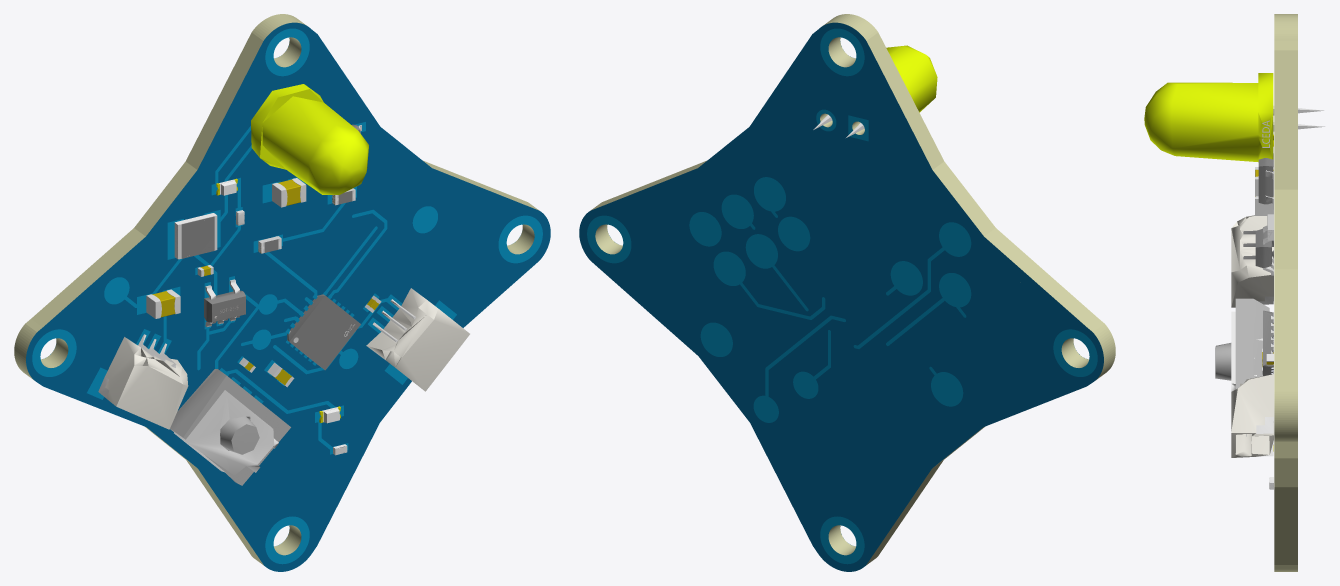
3 renders of one model, left to right at view 1: azimuth 30°, elevation 25°; view 2: azimuth 150°, elevation 25°; view 3: azimuth 270°, elevation 25°, orthographic.
Visible parts, largest first — view 1: v1; view 2: v1; view 3: v1.
Boxes of the visible parts, x1,y1,x2,y2 form: v1: (14,14,550,571); v1: (579,14,1115,571); v1: (1144,14,1324,571).
Size of the model in its own units: 41.38 by 41.27 by 12.31.
